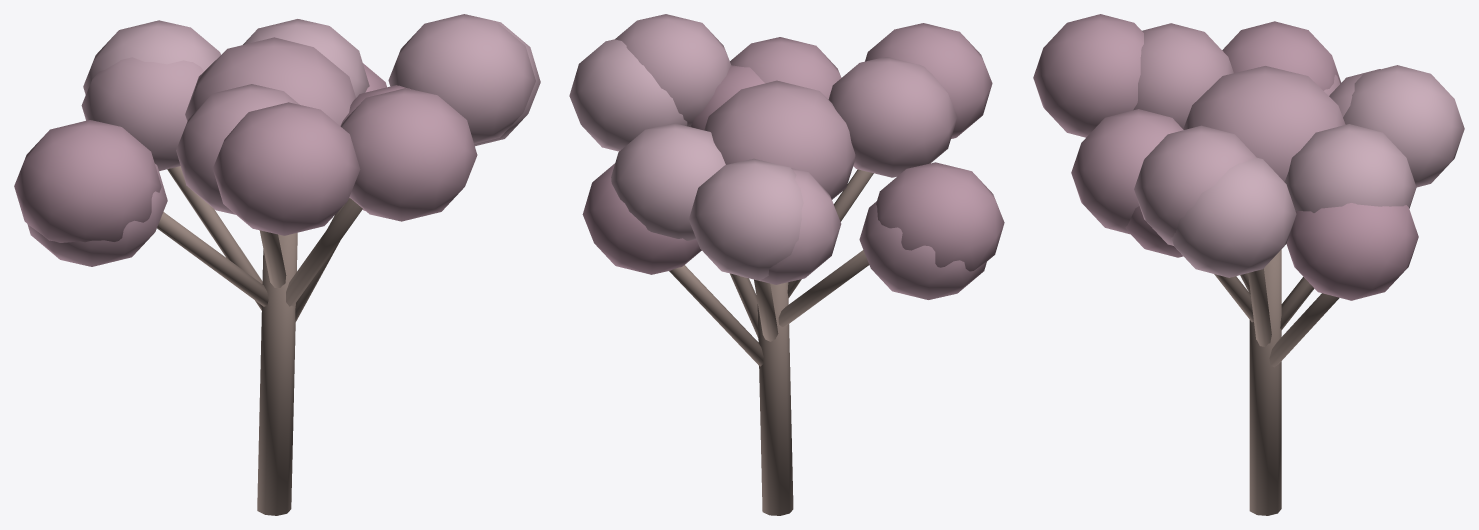
File: blossom.glb
3 renders of one model, left to right at view 1: azimuth 30°, elevation 25°; view 2: azimuth 150°, elevation 25°; view 3: azimuth 270°, elevation 25°, orthographic. The views are drawn at different scales.
Visible parts, largest first — view 1: blossom; view 2: blossom; view 3: blossom.
Part boxes in pixels (x1,y1,x2,y2): blossom: (14,14,540,515); blossom: (569,14,1004,515); blossom: (1033,14,1464,515).
Bounding box in the file's own units: 7.64 × 7.28 × 6.28.
